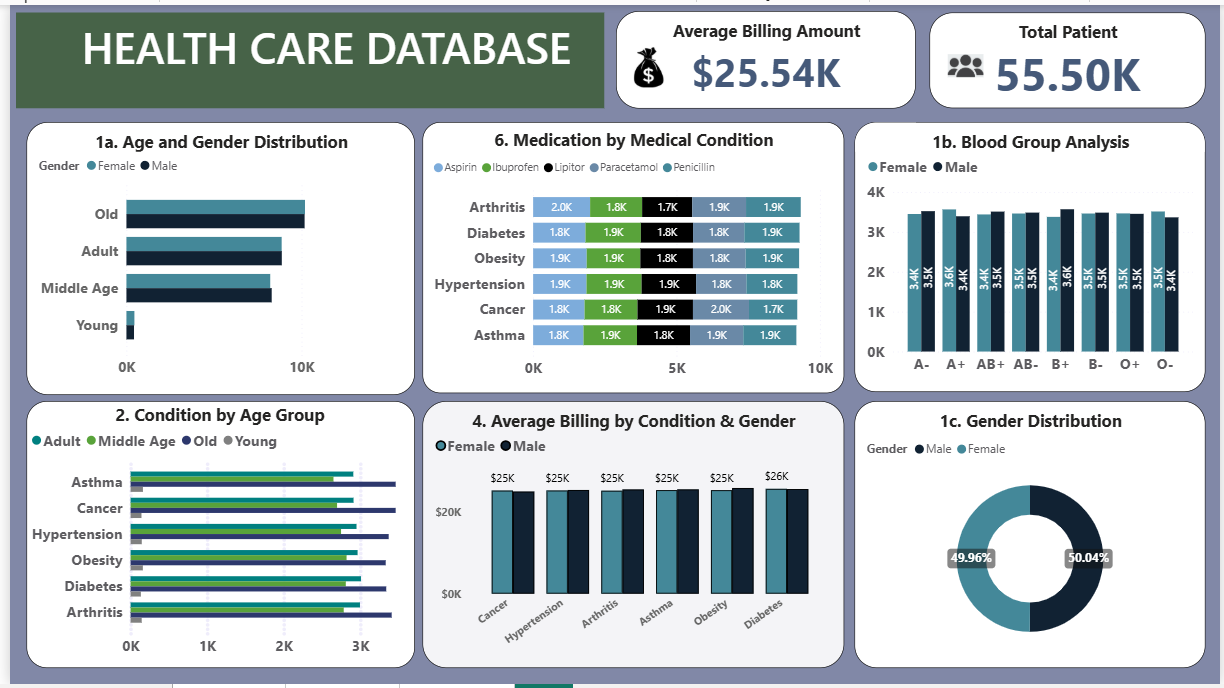

This screenshot's page, from the dashboard's own definition file:
{"tool":"powerbi","page":{"name":"Page 1","canvas":[1357,761],"ordinal":0},"visuals":[{"type":"card","title":"Total Patient ","fields":{"Values":["CountNonNull(healthcare_dataset.Name)"]},"box":[1030.6,8.4,309.3,107.6],"z":0},{"type":"card","title":"Average Billing Amount","fields":{"Values":["Avg(healthcare_dataset.Billing Amount)"]},"box":[679.2,6.7,336.2,109.3],"z":1000},{"type":"clusteredColumnChart","title":"1b. Blood Group Analysis","fields":{"Category":["healthcare_dataset.Blood Type"],"Y":["CountNonNull(healthcare_dataset.Name)"],"Series":["healthcare_dataset.Gender"]},"box":[946.5,131.1,393.4,302.6],"z":2000},{"type":"clusteredBarChart","title":"1a. Age and Gender Distribution","fields":{"Category":["healthcare_dataset.Age_group"],"Series":["healthcare_dataset.Gender"],"Y":["CountNonNull(healthcare_dataset.Name)"]},"box":[18.5,131.1,435.4,306],"z":3000},{"type":"clusteredBarChart","title":"2. Condition by Age Group","fields":{"Category":["Dim_med.Medical Condition"],"Y":["CountNonNull(healthcare_dataset.Name)"],"Series":["healthcare_dataset.Age_group"]},"box":[18.5,443.8,435.4,299.3],"z":4000},{"type":"clusteredColumnChart","title":"4. Average Billing by Condition & Gender","fields":{"Category":["Dim_med.Medical Condition"],"Y":["Avg(healthcare_dataset.Billing Amount)"],"Series":["healthcare_dataset.Gender"]},"box":[462.3,443.8,472.4,299.3],"z":5000},{"type":"textbox","box":[6.7,8.4,659,107.6],"z":6000},{"type":"donutChart","title":"1c. Gender Distribution","fields":{"Category":["healthcare_dataset.Gender"],"Y":["CountNonNull(healthcare_dataset.Name)"]},"box":[946.5,443.8,393.4,299.3],"z":9000},{"type":"barChart","title":"6. Medication by Medical Condition ","fields":{"Category":["Dim_med.Medical Condition"],"Series":["Dim_med.Medication"],"Y":["CountNonNull(healthcare_dataset.Name)"]},"box":[462.3,131.1,472.4,304.3],"z":10000},{"type":"image","box":[679.2,40.3,74,57.2],"z":13000},{"type":"image","box":[1045.7,5,50.4,126.1],"z":14000}]}

Visuals, with their boxes in screenshot pixels (x1, y1, x2, y2), scaled from the page's 1357x761 canvas onto the 1224x688 screenshot:
"Total Patient " card: rect(930, 8, 1209, 105)
"Average Billing Amount" card: rect(613, 6, 916, 105)
"1b. Blood Group Analysis" clusteredColumnChart: rect(854, 119, 1209, 392)
"1a. Age and Gender Distribution" clusteredBarChart: rect(17, 119, 409, 395)
"2. Condition by Age Group" clusteredBarChart: rect(17, 401, 409, 672)
"4. Average Billing by Condition & Gender" clusteredColumnChart: rect(417, 401, 843, 672)
textbox: rect(6, 8, 600, 105)
"1c. Gender Distribution" donutChart: rect(854, 401, 1209, 672)
"6. Medication by Medical Condition " barChart: rect(417, 119, 843, 394)
image: rect(613, 36, 679, 88)
image: rect(943, 5, 989, 119)
